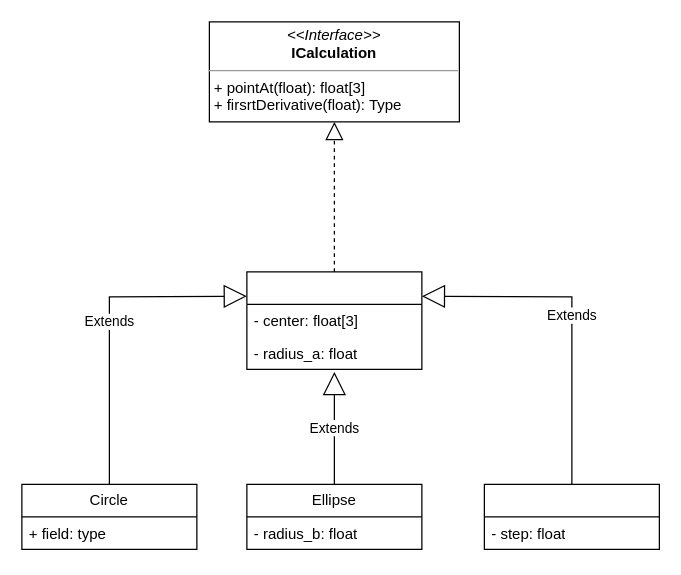
This 681x575 diagram has some shape labels left out. The shapes that lost their labels are listed below. From the top down, each one's box as (x1, y1, x2, y2) in pixels, then its label:
(246, 271, 422, 369): Curve
(483, 483, 659, 549): Helix
